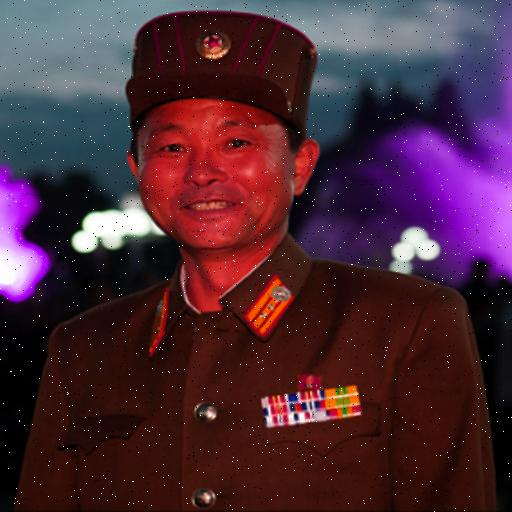north army: (44, 20, 504, 512)
